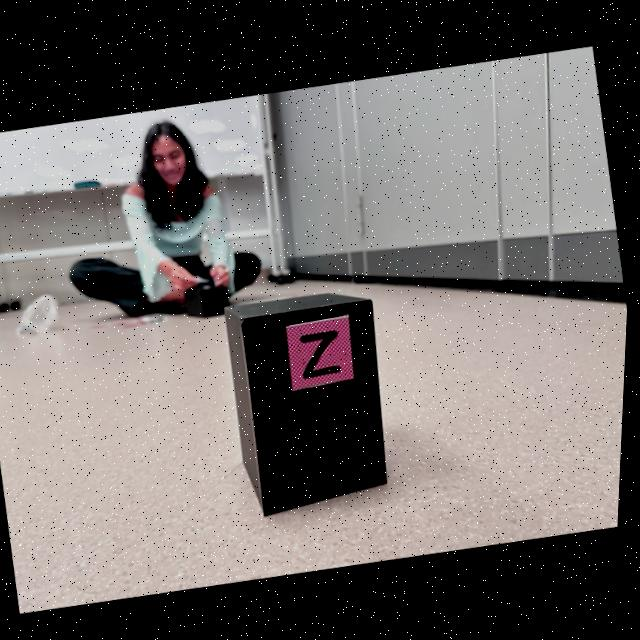Z: (303, 328, 343, 375)
